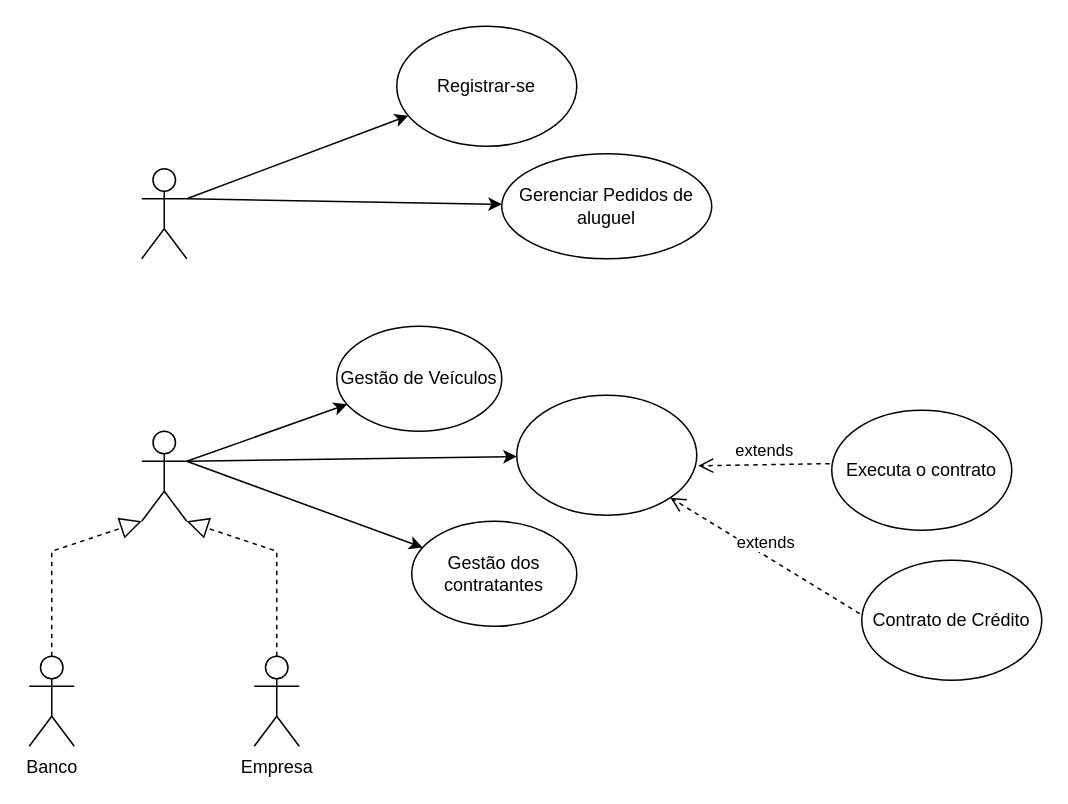
The diagram is 1068 pixels wide and 804 high, and some of its shapes have lost their labels. Each missing label, with the centre of its shape:
"Agente" goes at [163,475].
"Avaliar Pedido" goes at [606,454].
"Cliente" goes at [163,213].
